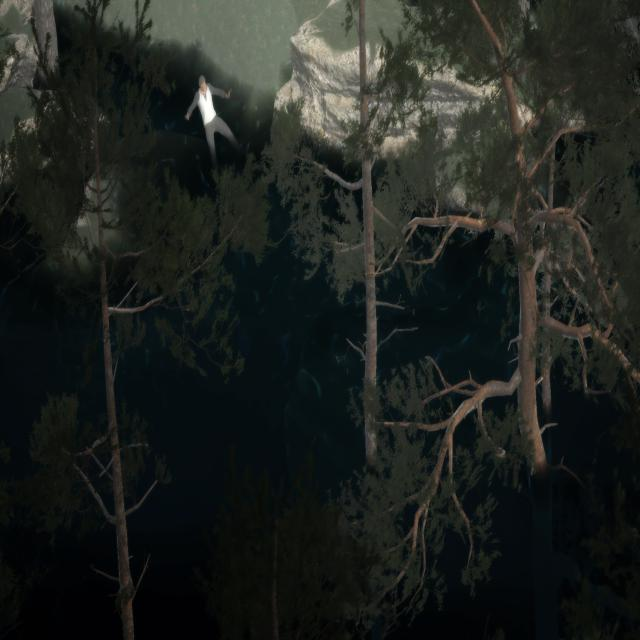Human: (183, 71, 248, 178)
